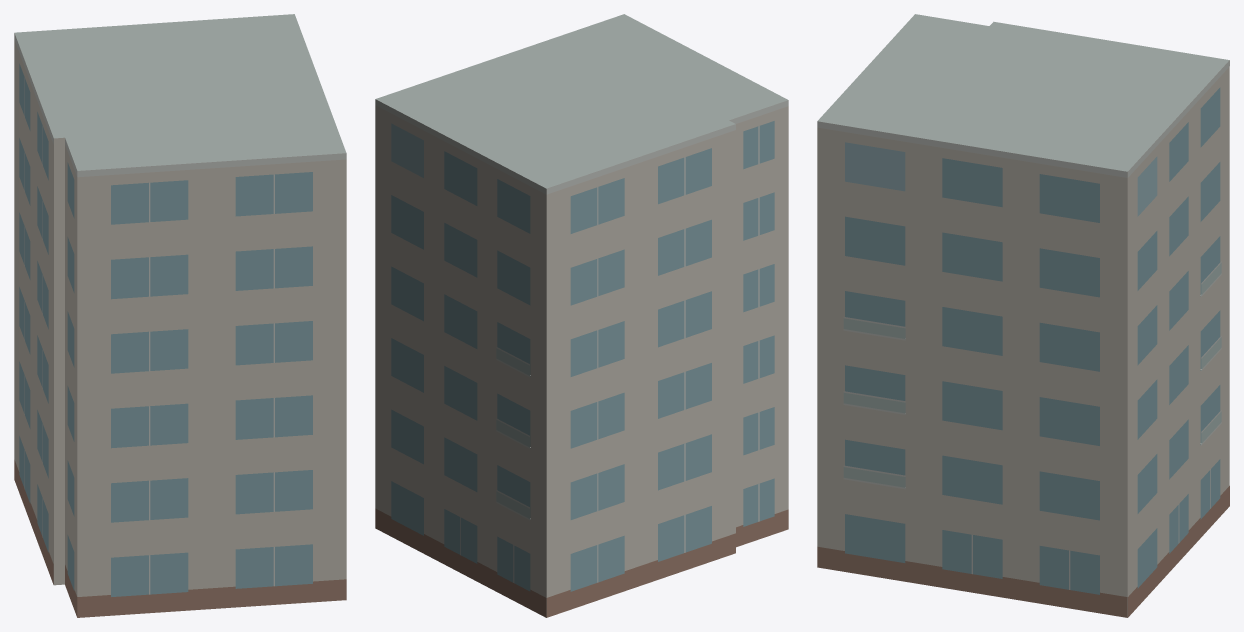
File: survey-upis-32875204.glb
The picture shows the model from 3 angles, left to right: view 1: azimuth 30°, elevation 25°; view 2: azimuth 150°, elevation 25°; view 3: azimuth 270°, elevation 25°; orthographic projection. The views are drawn at different scales.
Visible parts, largest first — view 1: survey-upis-32875204.tmp; view 2: survey-upis-32875204.tmp; view 3: survey-upis-32875204.tmp.
Boxes of the visible parts, box(x1,y1,x2,y2) form: survey-upis-32875204.tmp: box(14, 14, 346, 617); survey-upis-32875204.tmp: box(375, 14, 788, 617); survey-upis-32875204.tmp: box(817, 14, 1229, 617).
Size of the model in its own units: 13.21 by 17.4 by 14.59.
